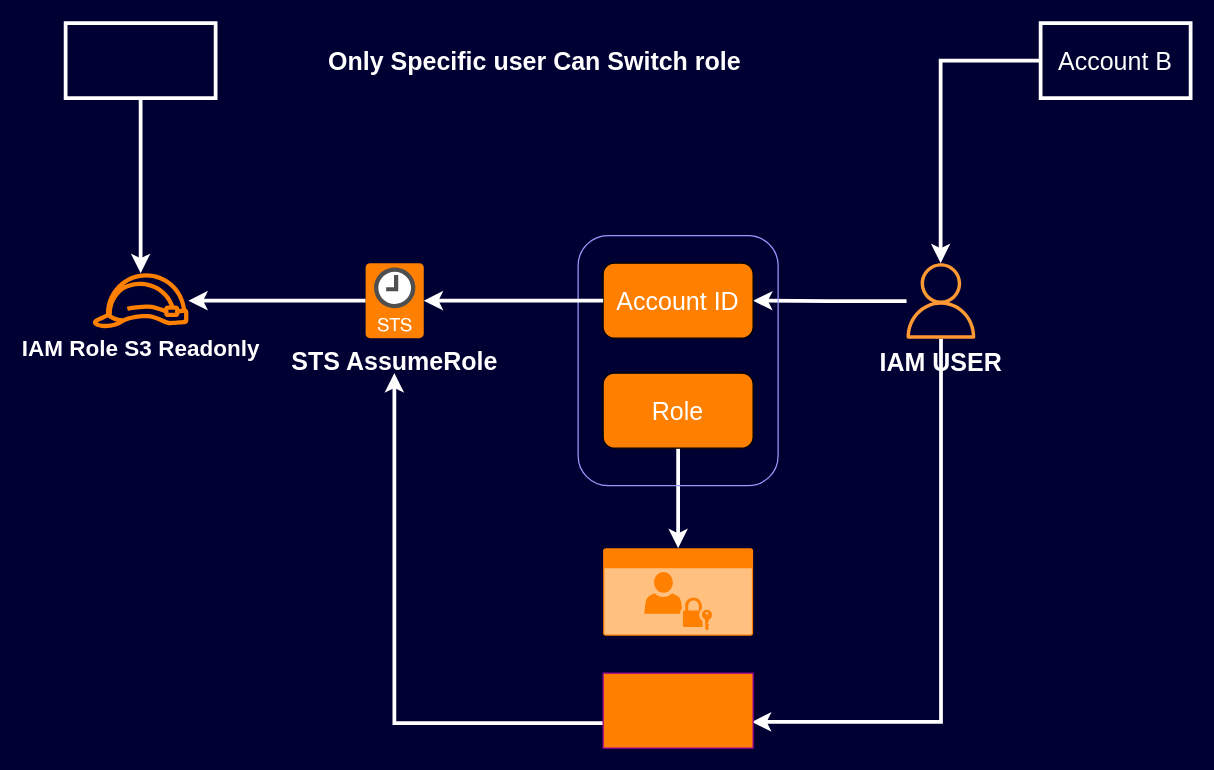
This 1214x770 diagram has some shape labels left out. The shapes that lost their labels are listed below. From the top down, each one's centre as x and y in pixels, then its label:
At (x=140, y=60): "Account A".
At (x=677, y=591): "Login".
At (x=677, y=710): "ARN".
